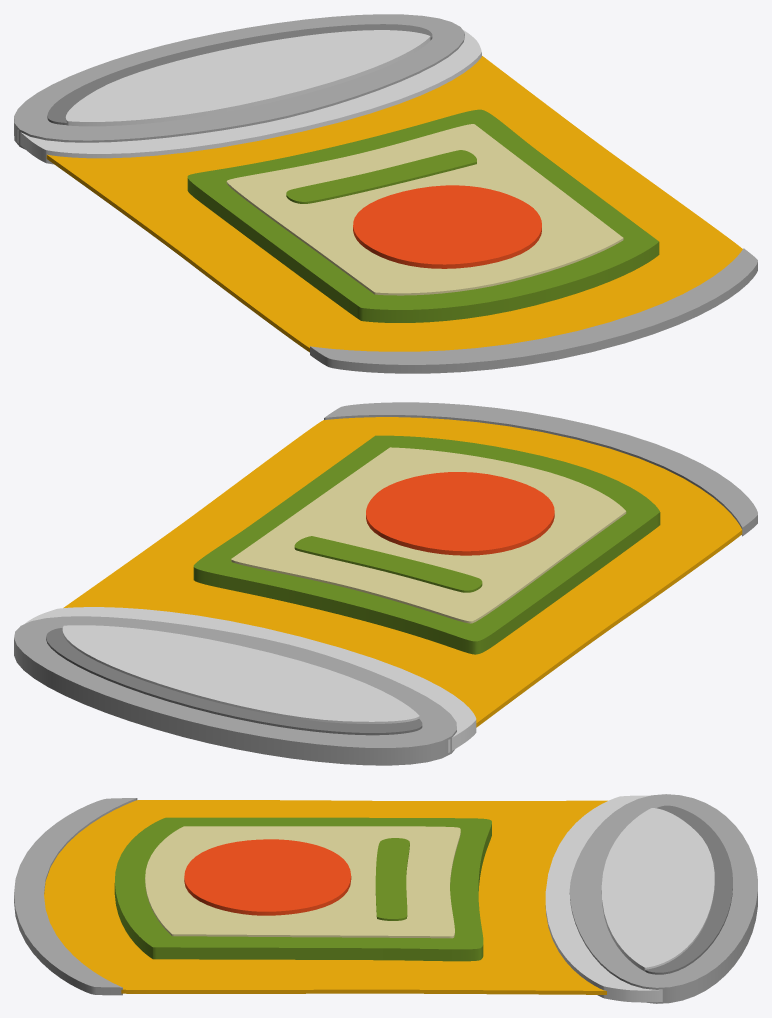
File: emoji_u1f96b.glb
3 views of the same model, one above another, from view 1: azimuth 30°, elevation 25°; view 2: azimuth 150°, elevation 25°; view 3: azimuth 270°, elevation 25° (orthographic). The views are drawn at different scales.
Parts seen in each view (by area): view 1: emoji_u1f96b; view 2: emoji_u1f96b; view 3: emoji_u1f96b.
Boxes of the visible parts, x1,y1,x2,y2 form: emoji_u1f96b: (14,14,757,373); emoji_u1f96b: (14,402,757,765); emoji_u1f96b: (14,794,757,1003).
Size of the model in its own units: 0.021 by 0.002 by 0.0339.
